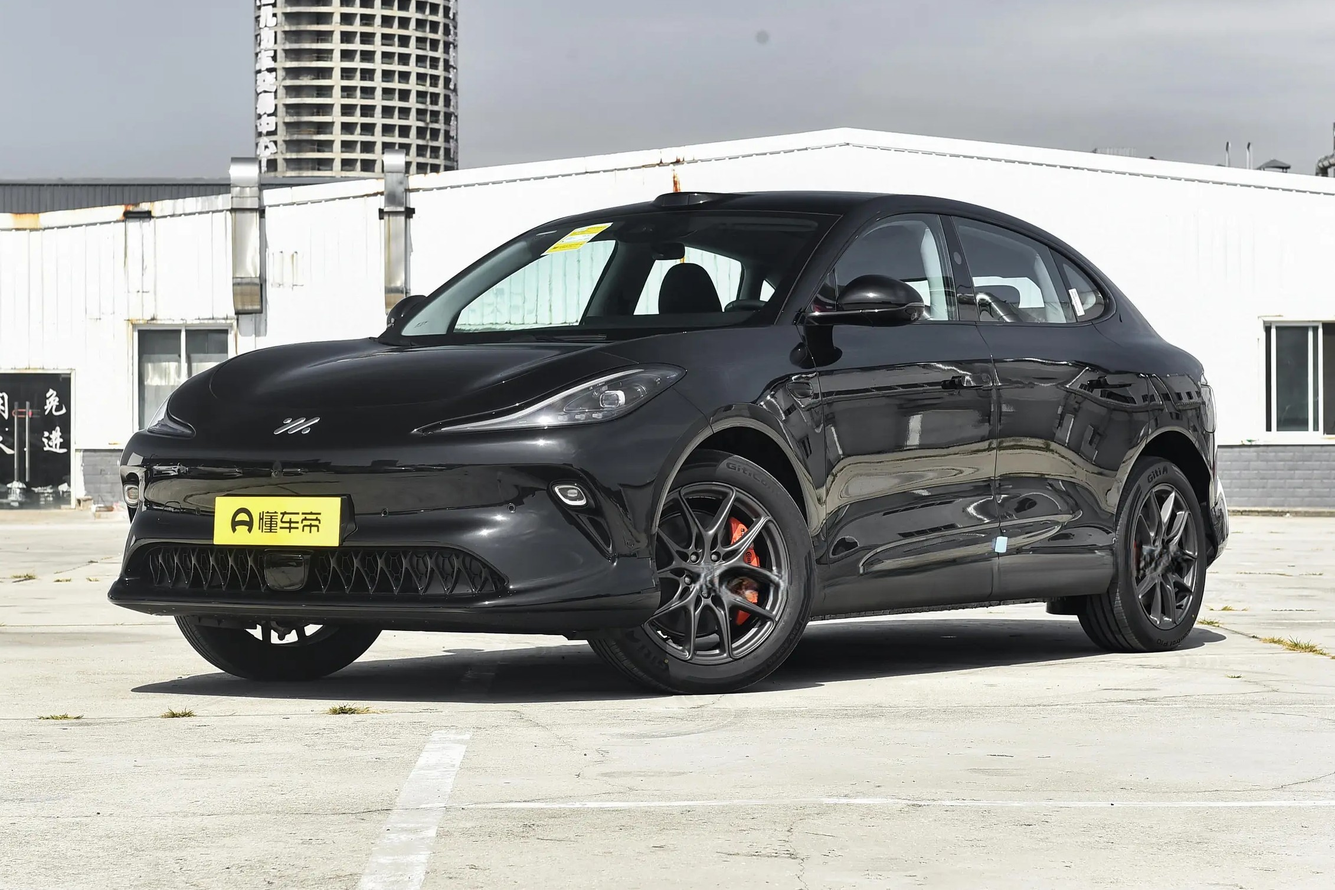IM: (274, 417, 320, 434)
